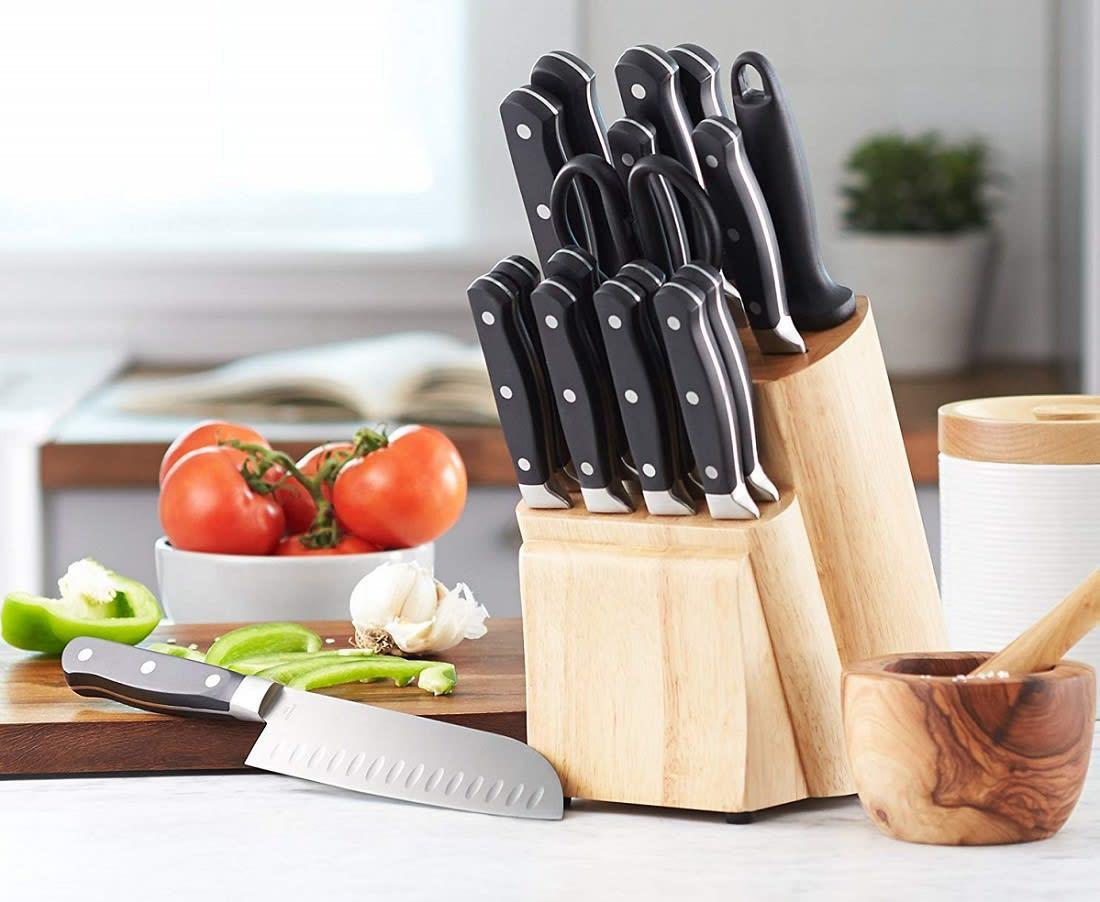faca: (61, 638, 563, 819), (732, 52, 855, 333), (692, 116, 805, 354), (656, 276, 758, 517), (594, 275, 693, 514), (532, 279, 632, 512), (469, 272, 567, 505), (500, 85, 566, 265)
